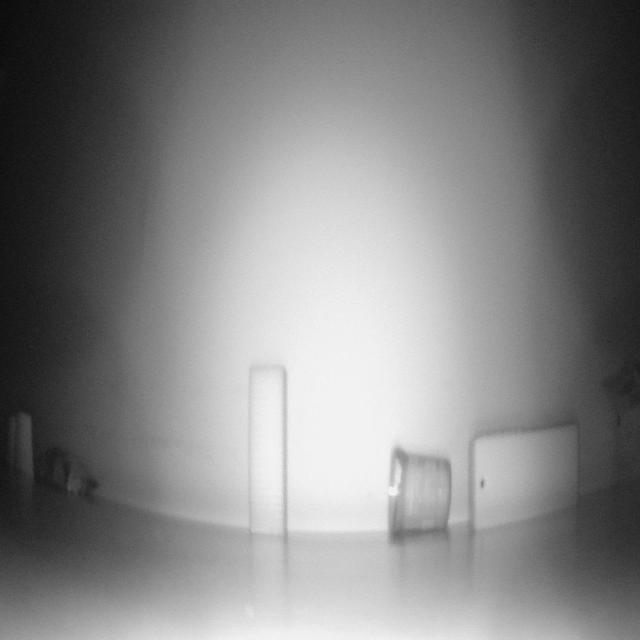targets: (468, 422, 582, 535), (248, 362, 286, 545), (391, 450, 453, 526), (606, 362, 640, 476), (40, 443, 99, 500), (10, 404, 37, 474)
